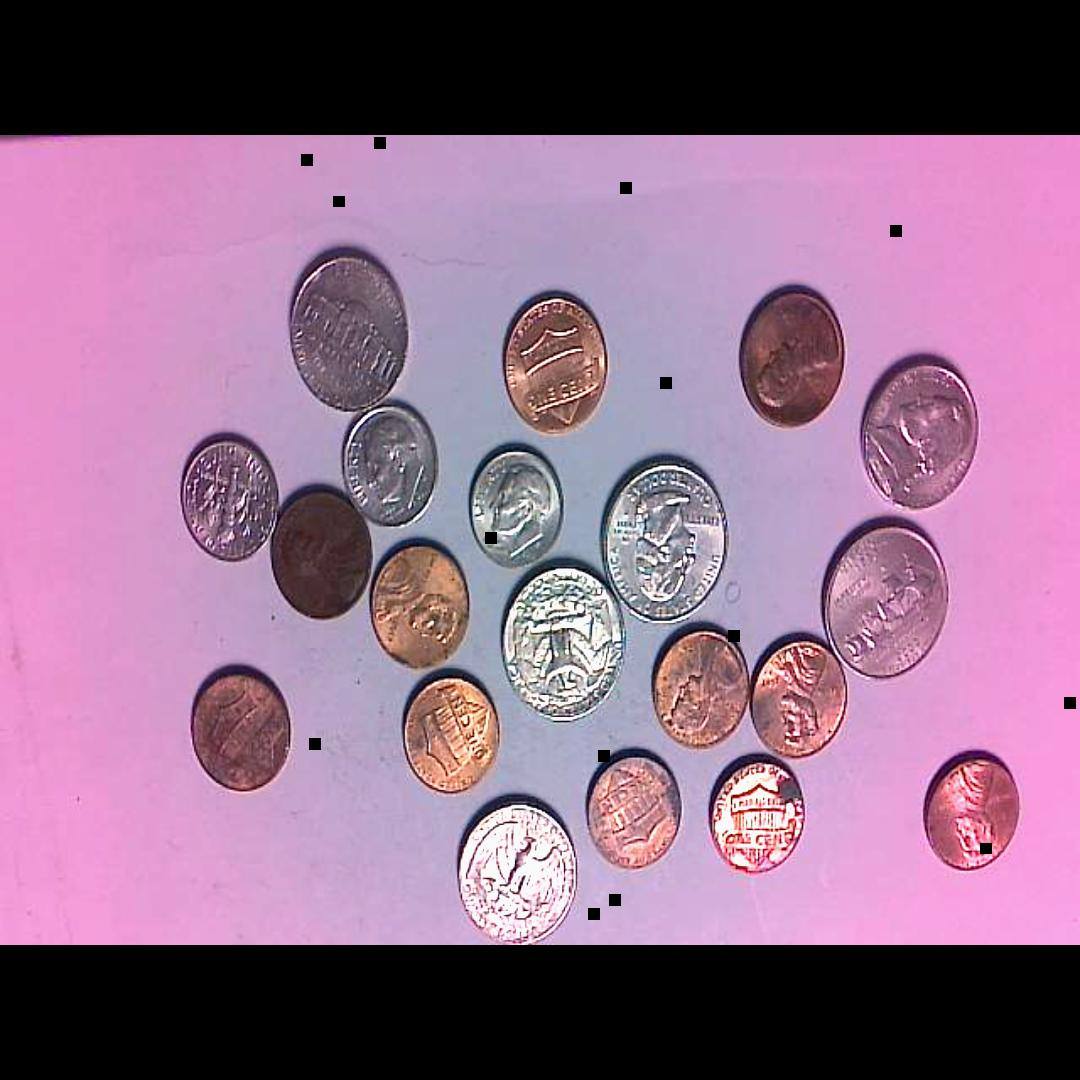Dime: (177, 429, 282, 565), (338, 397, 444, 530), (467, 441, 565, 568)
Nickel: (285, 243, 413, 415), (857, 350, 980, 518)
Penny: (735, 282, 848, 430), (502, 290, 615, 430), (186, 662, 297, 798), (268, 483, 373, 624), (750, 635, 857, 763), (398, 668, 501, 798), (921, 748, 1024, 878), (371, 538, 471, 670), (709, 754, 812, 880), (584, 748, 683, 875), (647, 628, 748, 751)
Quarter: (604, 455, 734, 632), (823, 516, 955, 683), (504, 556, 626, 723), (457, 805, 577, 945)
